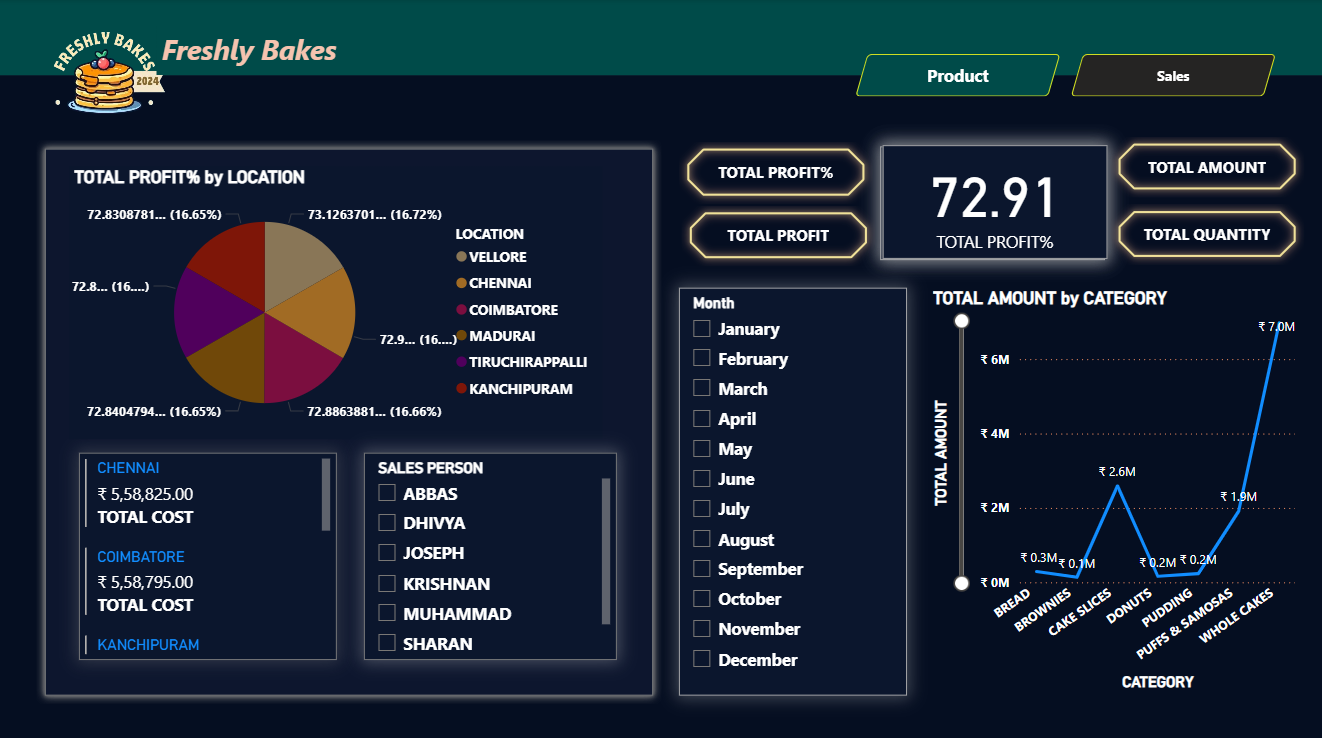

Layout of this report page (visuals, bound fields, positions):
{"tool":"powerbi","page":{"name":"Sales","canvas":[1280,720],"ordinal":1},"visuals":[{"type":"shape","box":[36.2,136.3,603.2,544.1],"z":0},{"type":"shape","box":[0,0,1280,73.6],"z":1000},{"type":"pageNavigator","box":[826.4,53.1,407.8,41],"z":2000},{"type":"multiRowCard","fields":{"Values":["Sales.LOCATION","Sales.TOTAL COST"]},"box":[77.2,437.9,248.5,200.3],"z":4000},{"type":"card","fields":{"Values":["Sales.TOTAL QUANTITY"]},"box":[850.5,142.4,217.2,109.8],"z":5000},{"type":"card","fields":{"Values":["Sales.TOTAL AMOUNT"]},"box":[853,141.2,217.2,109.8],"z":6000},{"type":"pieChart","fields":{"Y":["Sales.TOTAL PROFIT%"],"Category":["Sales.LOCATION"]},"box":[67.6,161.7,515.2,263],"z":9000},{"type":"slicer","fields":{"Values":["Sales.DATE.Variation.Date Hierarchy.Month"]},"box":[656.2,278.8,220,393.8],"z":10000},{"type":"actionButton","box":[656.3,136.3,187,61.5],"z":11000},{"type":"actionButton","box":[658.7,197.9,187,60.3],"z":12000},{"type":"actionButton","box":[1073,131.3,187,60.3],"z":13000},{"type":"actionButton","box":[1073,196.4,187,60.3],"z":14000},{"type":"lineChart","fields":{"Category":["Price.CATEGORY"],"Y":["Sales.TOTAL AMOUNT"]},"box":[896.4,278.7,359.5,393.3],"z":15000},{"type":"slicer","fields":{"Values":["Sales_person.SALES PERSON"]},"box":[352.3,437.9,243.7,200.3],"z":16000},{"type":"image","box":[10,10,184.6,139.9],"z":17000},{"type":"textbox","box":[152,25.3,202.7,48.3],"z":18000}]}

Visuals, with their boxes in screenshot pixels (x1, y1, x2, y2), scaled from the page's 1280x720 canvas onto the 1322x738 screenshot:
shape: box=[37, 140, 660, 697]
shape: box=[0, 0, 1321, 75]
pageNavigator: box=[854, 54, 1275, 96]
multiRowCard - Sales.LOCATION x Sales.TOTAL COST: box=[80, 449, 336, 654]
card - Sales.TOTAL QUANTITY: box=[878, 146, 1103, 259]
card - Sales.TOTAL AMOUNT: box=[881, 145, 1105, 257]
pieChart - Sales.TOTAL PROFIT% x Sales.LOCATION: box=[70, 166, 602, 435]
slicer - Sales.DATE.Variation.Date Hierarchy.Month: box=[678, 286, 905, 689]
actionButton: box=[678, 140, 871, 203]
actionButton: box=[680, 203, 873, 265]
actionButton: box=[1108, 135, 1301, 196]
actionButton: box=[1108, 201, 1301, 263]
lineChart - Price.CATEGORY x Sales.TOTAL AMOUNT: box=[926, 286, 1297, 689]
slicer - Sales_person.SALES PERSON: box=[364, 449, 616, 654]
image: box=[10, 10, 201, 154]
textbox: box=[157, 26, 366, 75]
